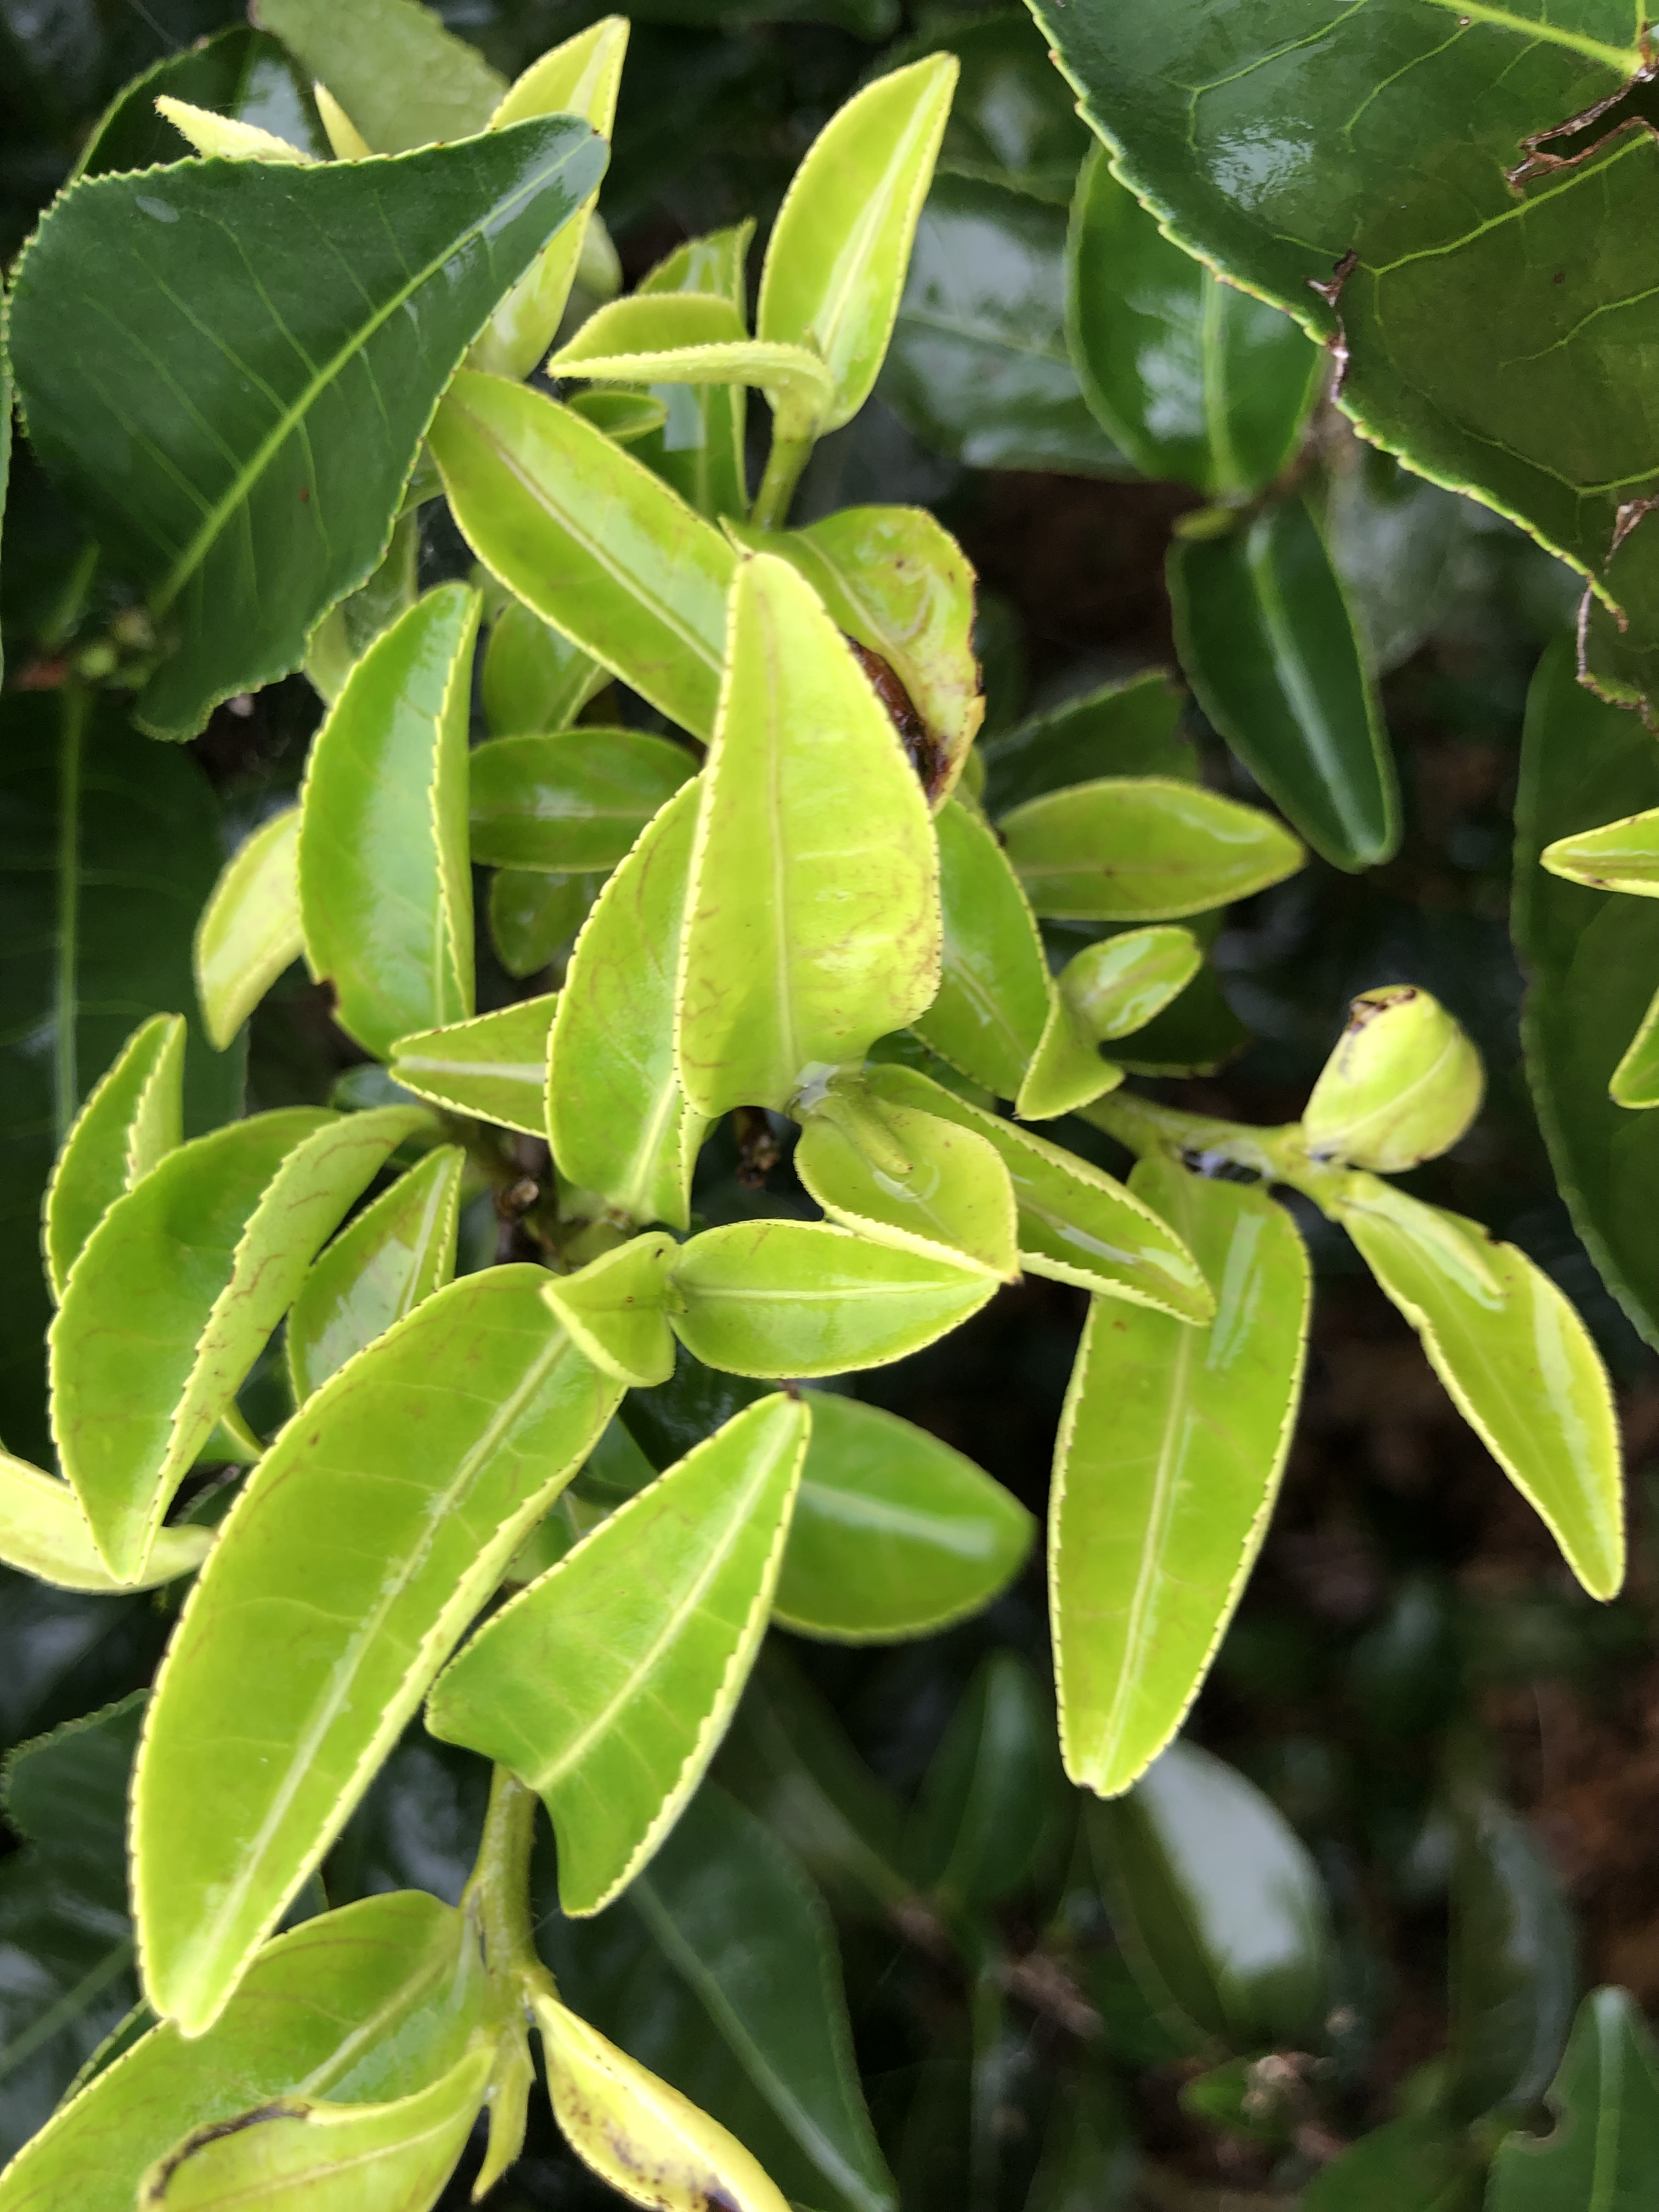formosa: (655, 495, 950, 1125), (436, 362, 748, 728)
